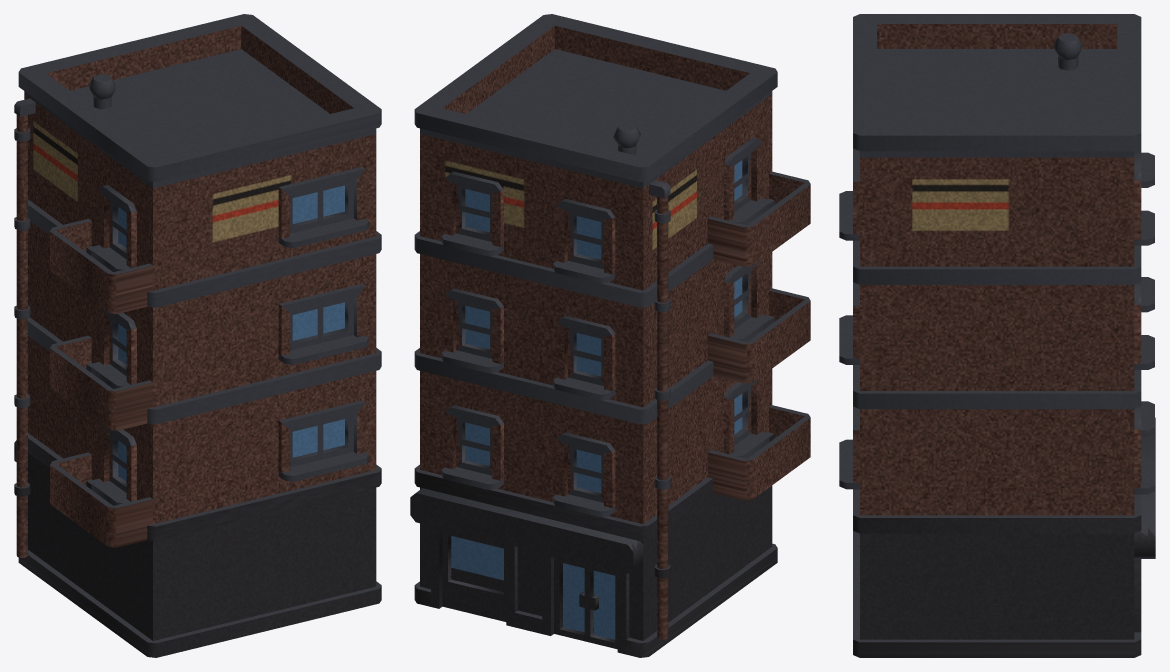
File: building-g-brown-scuffed.glb
The picture shows the model from 3 angles, left to right: view 1: azimuth 30°, elevation 25°; view 2: azimuth 150°, elevation 25°; view 3: azimuth 270°, elevation 25°; orthographic projection. The views are drawn at different scales.
Parts seen in each view (by area): view 1: building-g-brown-scuffed; view 2: building-g-brown-scuffed; view 3: building-g-brown-scuffed.
Part boxes in pixels (<box>): building-g-brown-scuffed: <box>14,14,381,657</box>; building-g-brown-scuffed: <box>410,14,810,657</box>; building-g-brown-scuffed: <box>839,14,1155,657</box>.
Size of the model in its own units: 0.97 by 1.69 by 0.922.
Materials: 1 (1 with a texture image).
